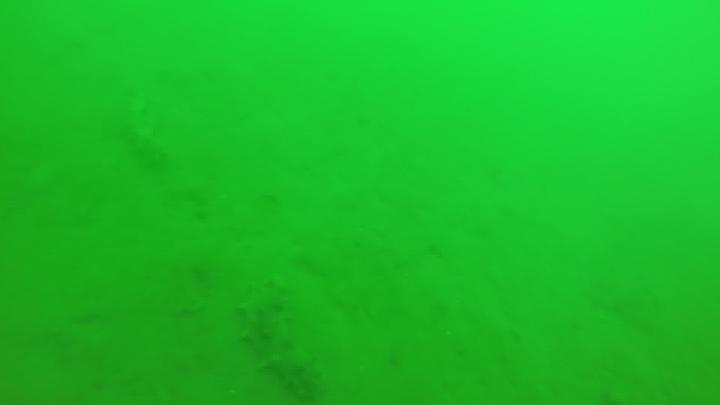holothurian: (236, 276, 328, 405), (117, 85, 165, 168)
